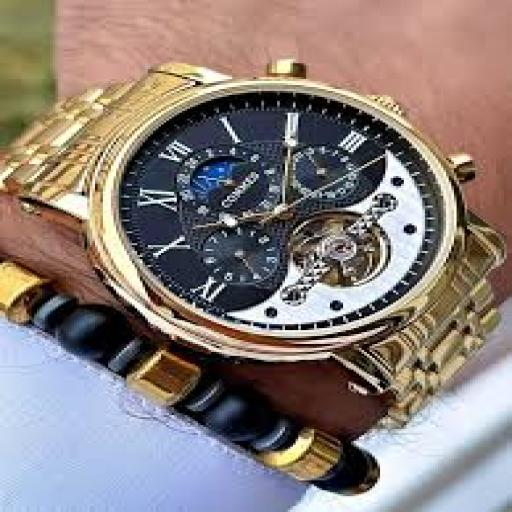KolSaati: (4, 6, 491, 458)
